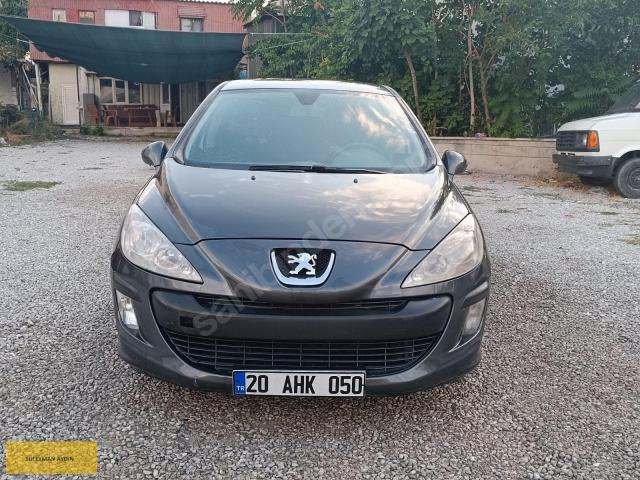plaka: (233, 370, 366, 396)
